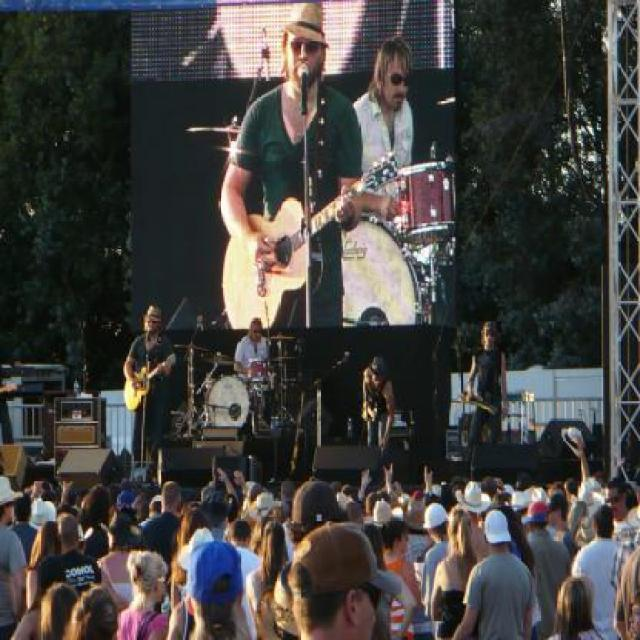Person: (0, 427, 638, 638), (219, 0, 362, 332), (350, 34, 415, 238), (121, 305, 174, 463), (465, 318, 510, 459), (360, 352, 402, 466), (236, 319, 270, 436)
